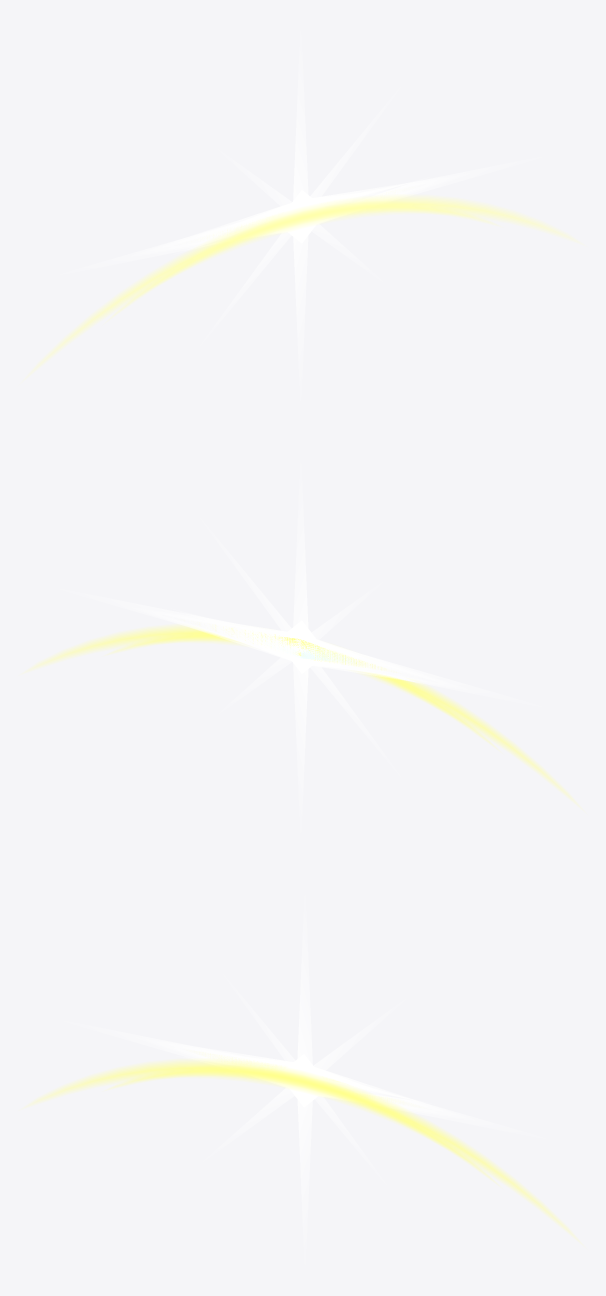
Rendered from metal_hero_v3.glb.
3 views of the same model, one above another, from view 1: azimuth 30°, elevation 25°; view 2: azimuth 150°, elevation 25°; view 3: azimuth 330°, elevation 25° (orthographic).
Parts seen in each view (by area): view 1: core_star, arc_00, arc_01, spark_10; view 2: core_star, arc_00, spark_02, spark_10, spark_08, arc_01, spark_00; view 3: core_star, arc_00, arc_01, spark_10.
Boxes of the visible parts, x1,y1,x2,y2 form: core_star: [84, 51, 516, 380]; arc_00: [29, 195, 576, 374]; arc_01: [110, 202, 495, 318]; spark_10: [178, 181, 420, 247]; core_star: [85, 483, 517, 813]; arc_00: [30, 625, 576, 803]; spark_02: [185, 619, 417, 678]; spark_10: [150, 610, 449, 685]; spark_08: [196, 621, 398, 674]; arc_01: [110, 631, 495, 747]; spark_00: [219, 626, 363, 669]; core_star: [89, 914, 521, 1244]; arc_00: [29, 1059, 576, 1238]; arc_01: [110, 1067, 495, 1182]; spark_10: [185, 1045, 427, 1111].
Bounding box in the file's own units: 0.1573 × 0.105 × 0.0015.
